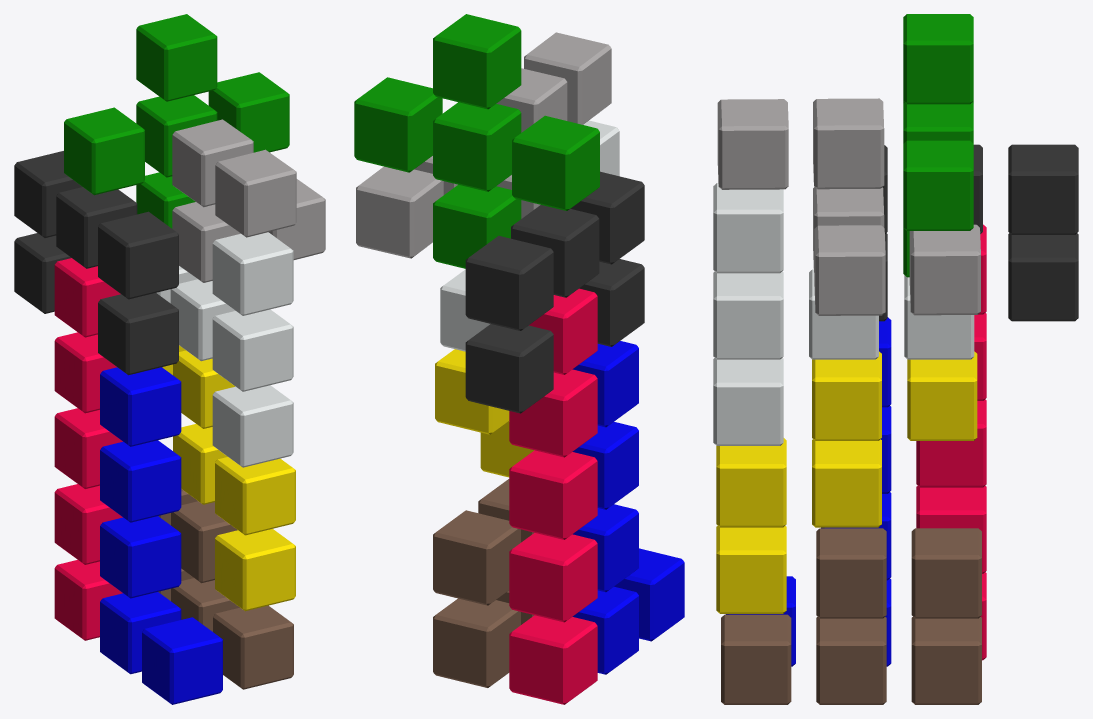
Rendered from Figur10b.glb.
The picture shows the model from 3 angles, left to right: view 1: azimuth 30°, elevation 25°; view 2: azimuth 150°, elevation 25°; view 3: azimuth 270°, elevation 25°; orthographic projection. The views are drawn at different scales.
Parts seen in each view (by area): view 1: Cube.020, Cube.028, Cube.032, Cube.027, Cube.038, Cube.045, Cube.039, Cube.043, Cube.046, Cube.036, Cube.053, Cube.030 (+23 smaller); view 2: Cube.028, Cube.034, Cube.027, Cube.003, Cube.005, Cube.033, Cube.004, Cube.024, Cube.011, Cube.029, Cube.021, Cube.010 (+18 smaller); view 3: Cube.019, Cube.023, Cube.020, Cube.009, Cube.008, Cube.034, Cube.011, Cube.024, Cube.028, Cube.043, Cube.033, Cube.053 (+21 smaller).
Part boxes in pixels (box(x1,y1,x2,y2)): Cube.020: box(215, 149, 296, 237); Cube.028: box(136, 14, 217, 101); Cube.032: box(98, 211, 178, 299); Cube.027: box(64, 107, 144, 195); Cube.038: box(142, 617, 222, 704); Cube.045: box(212, 232, 293, 315); Cube.039: box(100, 440, 181, 522); Cube.043: box(212, 309, 293, 391); Cube.046: box(212, 385, 293, 467); Cube.036: box(100, 516, 181, 598); Cube.053: box(215, 529, 295, 611); Cube.030: box(98, 293, 178, 375); Cube.028: box(433, 14, 521, 109); Cube.034: box(465, 235, 553, 330); Cube.027: box(512, 115, 599, 210); Cube.003: box(509, 533, 597, 622); Cube.005: box(509, 615, 597, 704); Cube.033: box(465, 324, 553, 413); Cube.004: box(509, 450, 597, 539); Cube.024: box(354, 77, 442, 172); Cube.011: box(433, 510, 520, 605); Cube.029: box(433, 102, 521, 191); Cube.021: box(356, 166, 443, 258); Cube.010: box(433, 598, 520, 687); Cube.019: box(813, 98, 884, 189); Cube.023: box(814, 225, 885, 315); Cube.020: box(717, 99, 788, 189); Cube.009: box(816, 528, 886, 618); Cube.008: box(721, 614, 791, 704); Cube.034: box(1008, 144, 1078, 234); Cube.011: box(911, 528, 981, 618); Cube.024: box(903, 140, 973, 230); Cube.028: box(903, 14, 973, 104); Cube.043: box(713, 271, 783, 359); Cube.033: box(1008, 233, 1078, 321); Cube.053: box(716, 525, 786, 613).
Bounding box in the file's own units: 4.51 × 12.5 × 6.21.
